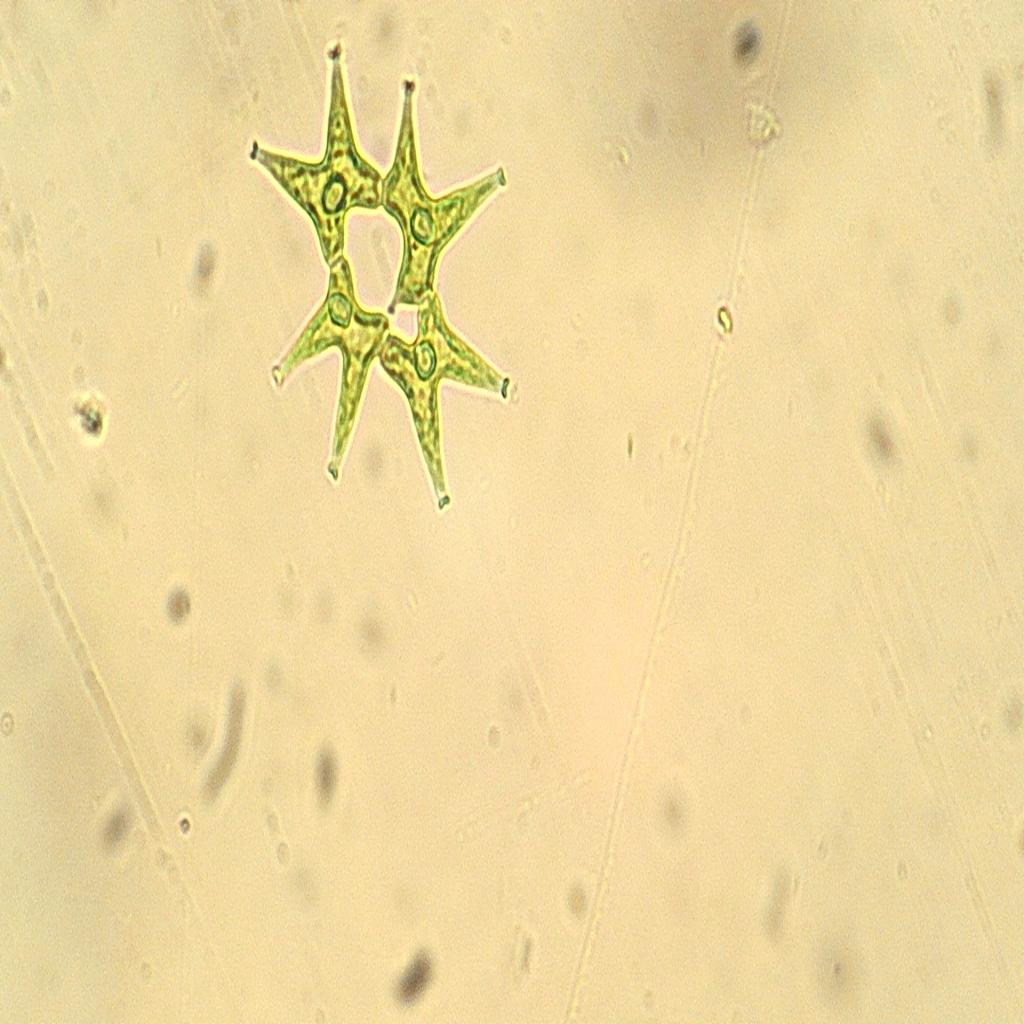Pediastrum_CF: (242, 36, 528, 526)
